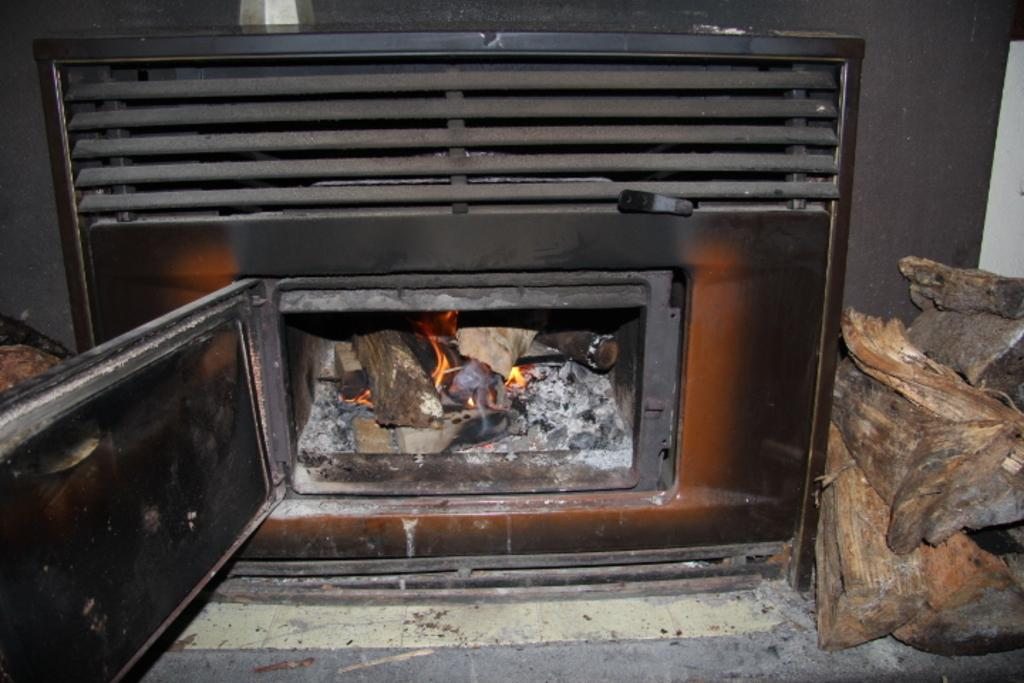Fire: (324, 309, 582, 426)
